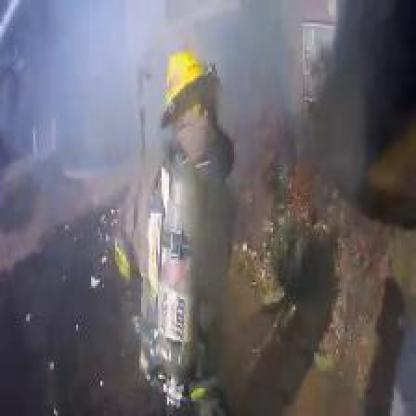other: (152, 50, 214, 111)
